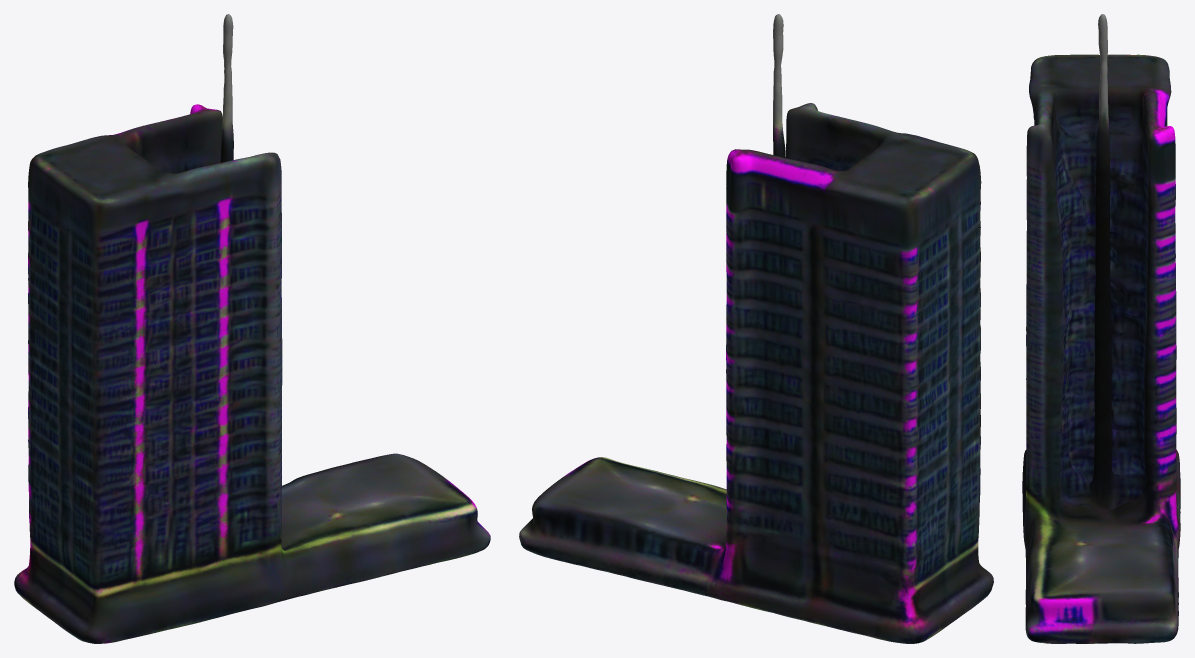
Rendered from ff2fcbc19435_a_tall__minimalist_futuristic_sk.glb.
3 renders of one model, left to right at view 1: azimuth 30°, elevation 25°; view 2: azimuth 150°, elevation 25°; view 3: azimuth 270°, elevation 25°, orthographic. The views are drawn at different scales.
Visible parts, largest first — view 1: geometry_0; view 2: geometry_0; view 3: geometry_0.
Part boxes in pixels (x1,y1,x2,y2): geometry_0: (14,14,490,643); geometry_0: (519,14,993,643); geometry_0: (1022,14,1180,643).
Size of the model in its own units: 0.356 by 0.4706 by 0.1278.
1 material, 1 textured.
